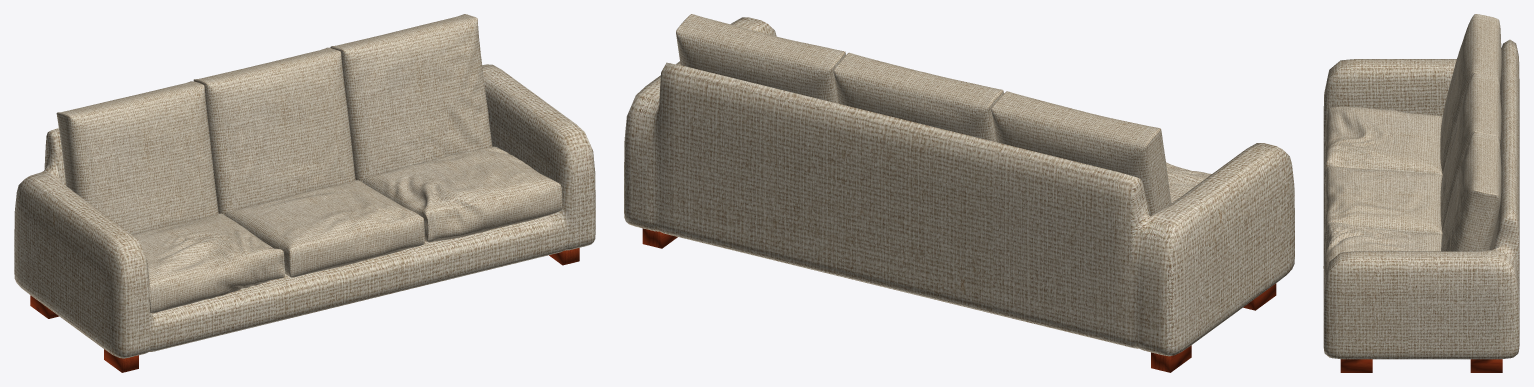
Rendered from crate.glb.
3 views of the same model, side by side, from view 1: azimuth 30°, elevation 25°; view 2: azimuth 150°, elevation 25°; view 3: azimuth 270°, elevation 25° (orthographic). The views are drawn at different scales.
Visible parts, largest first — view 1: Cube.007, Cube.004, Cube.003, Cube.006, Cube.002, Cube.001, Cube.005; view 2: Cube.007, Cube.006, Cube.004, Cube.003, Cube.005; view 3: Cube.007, Cube.005, Cube.001, Cube.003, Cube.006, Cube.004, Cube.002.
Boxes of the visible parts, box(x1,y1,x2,y2) form: Cube.007: box(14, 64, 595, 372); Cube.004: box(193, 47, 355, 214); Cube.003: box(330, 14, 492, 182); Cube.006: box(56, 81, 218, 234); Cube.002: box(363, 146, 562, 242); Cube.001: box(224, 180, 424, 277); Cube.005: box(132, 213, 285, 313); Cube.007: box(624, 17, 1294, 372); Cube.006: box(991, 91, 1171, 214); Cube.004: box(833, 52, 1003, 142); Cube.003: box(676, 14, 845, 103); Cube.005: box(1166, 162, 1211, 203); Cube.007: box(1323, 39, 1519, 372); Cube.005: box(1324, 106, 1442, 184); Cube.001: box(1324, 166, 1442, 238); Cube.003: box(1441, 132, 1501, 251); Cube.006: box(1440, 14, 1501, 173); Cube.004: box(1440, 73, 1501, 232); Cube.002: box(1323, 222, 1441, 282).
Size of the model in its own units: 2 by 0.7751 by 0.8003.
3 materials, 3 textured.
